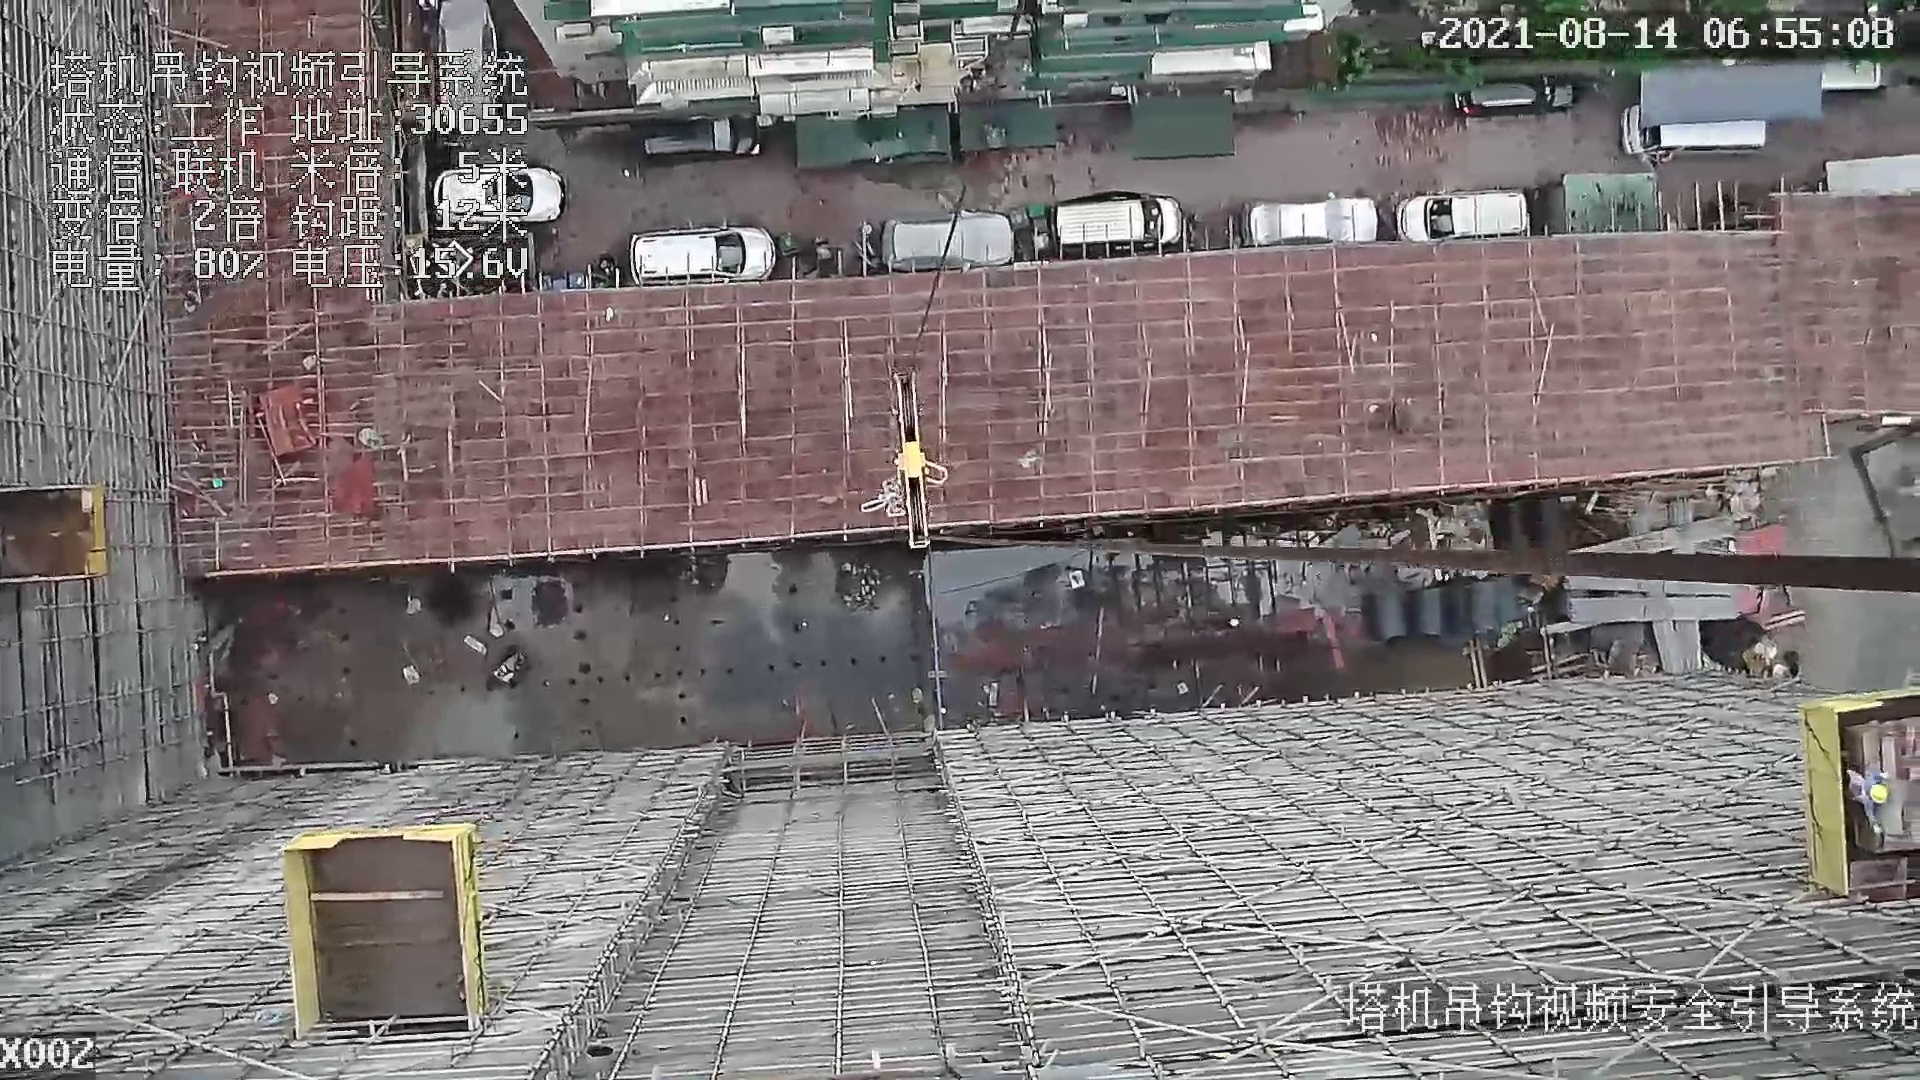helmet: (1870, 783, 1888, 802)
hook: (881, 368, 950, 546)
person: (1843, 769, 1888, 835)
rebar: (1571, 515, 1730, 553), (1573, 598, 1738, 620), (1565, 577, 1738, 598), (1653, 623, 1685, 672), (1676, 622, 1700, 670)
